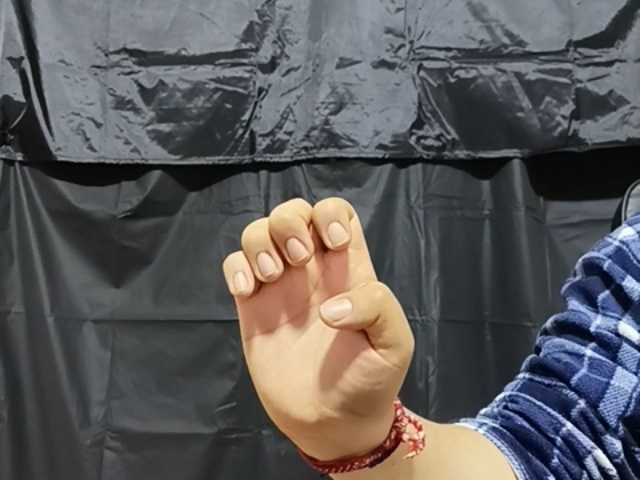E: (216, 190, 418, 443)
